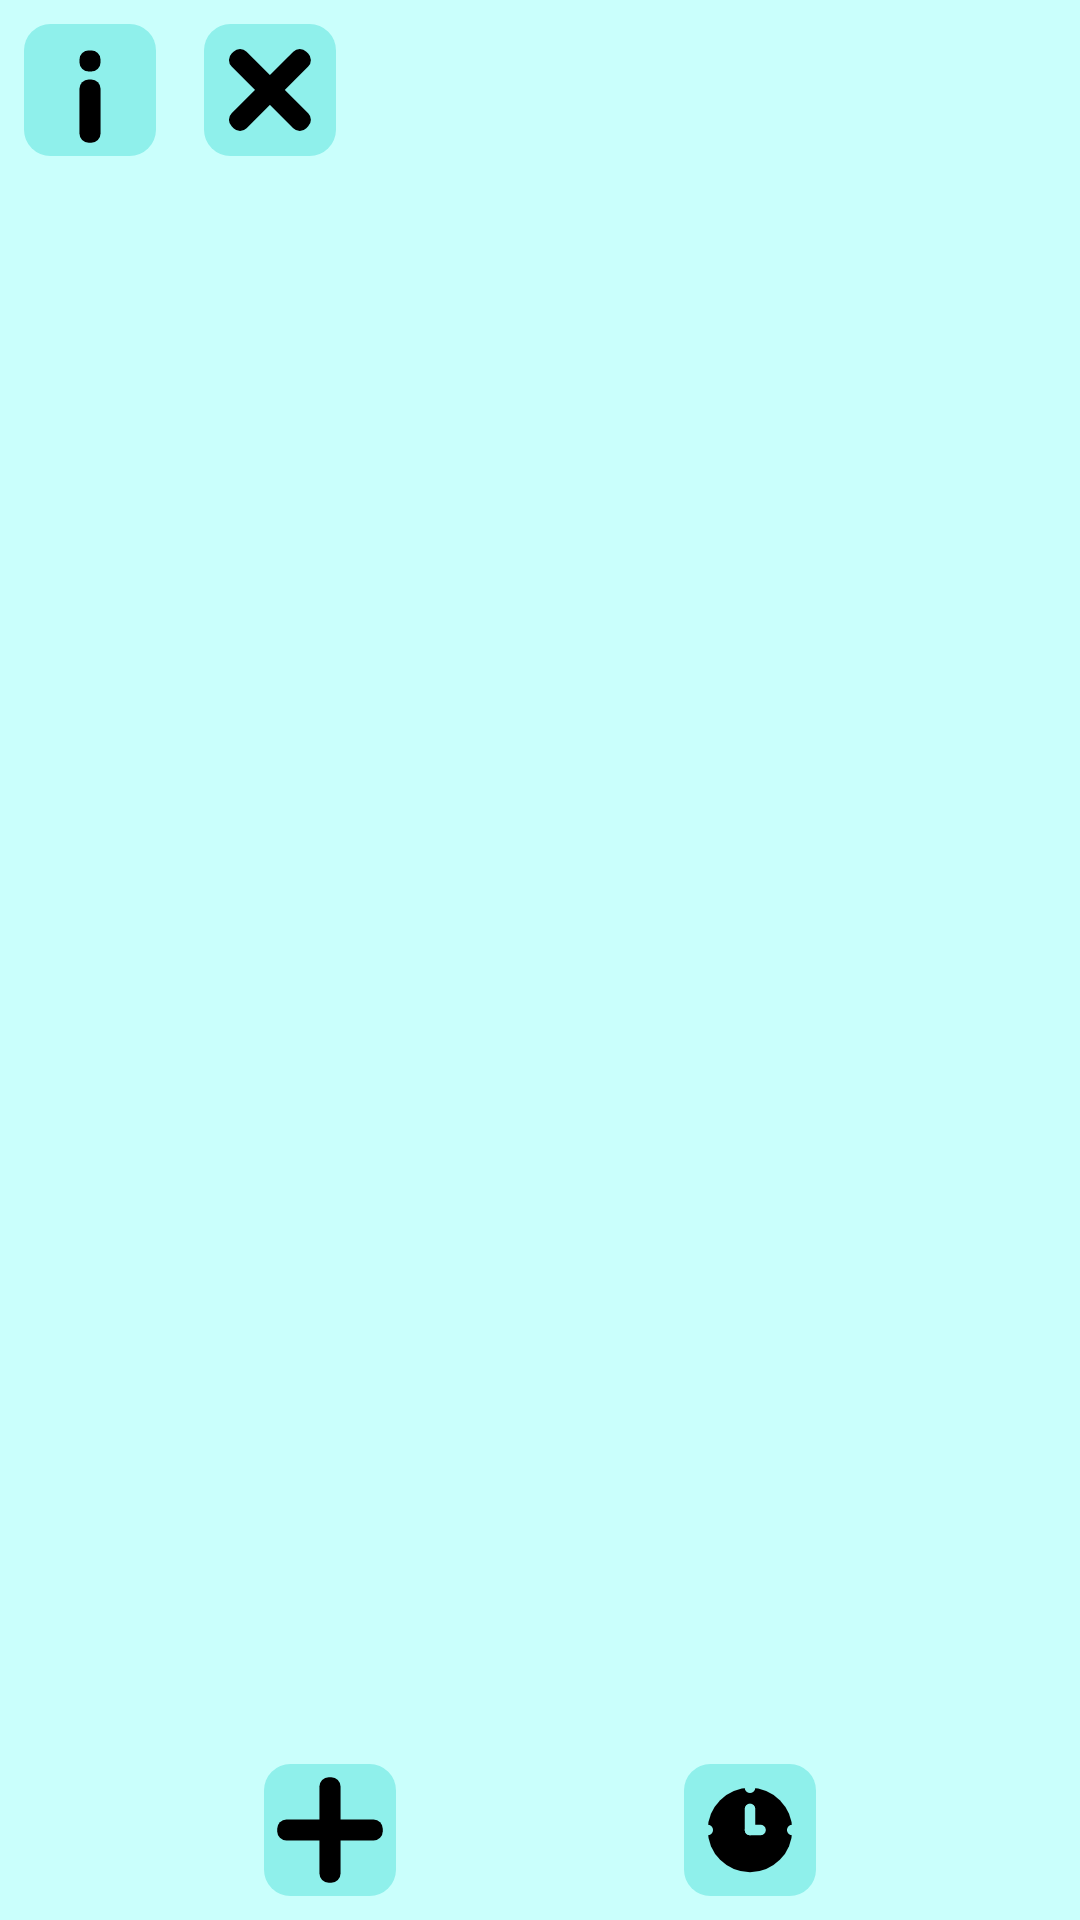

Where icons sit on this 1080 x 1920 app screen, as bbox=[x1, y1, x2, y2]:
add: bbox=[264, 1764, 396, 1896]
inf: bbox=[24, 24, 156, 156]
stop: bbox=[204, 24, 336, 156]
timer: bbox=[684, 1764, 816, 1896]
